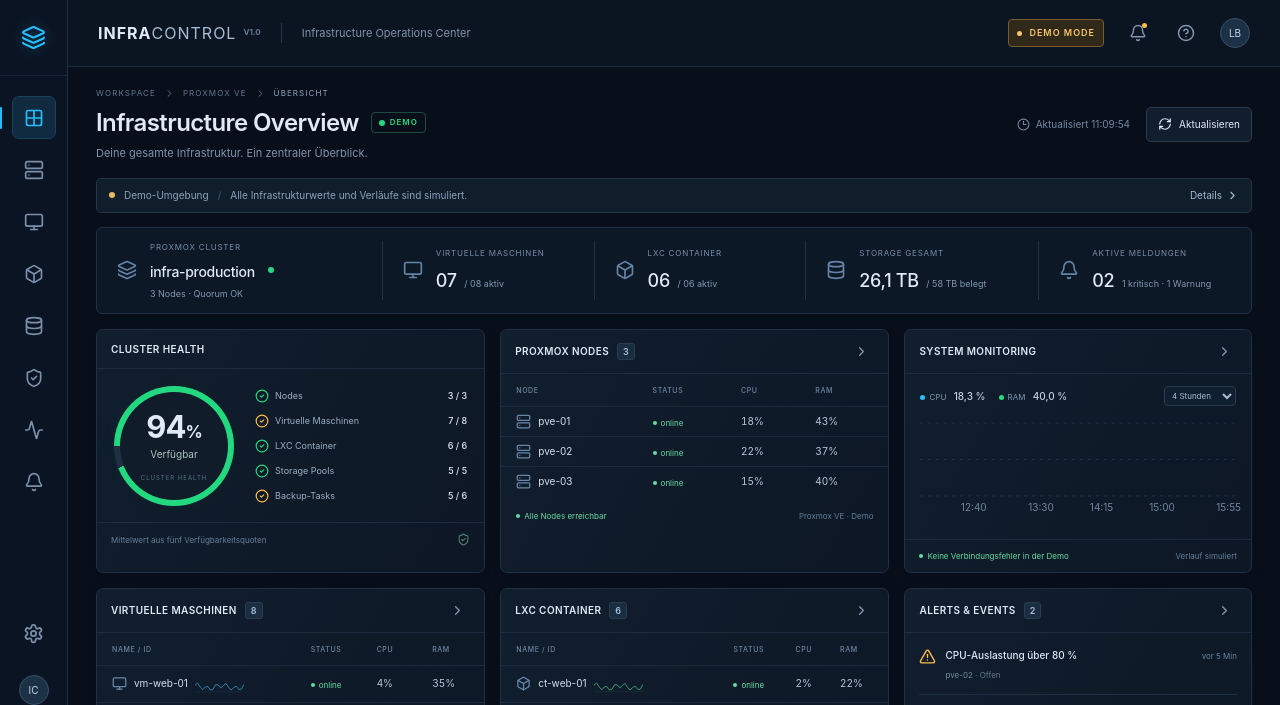
it: InfraControl demo › navigates to inventory and filters and sorts rows
Click the button named "Virtuelle Maschinen" at (34, 222), box [12,200,56,243]
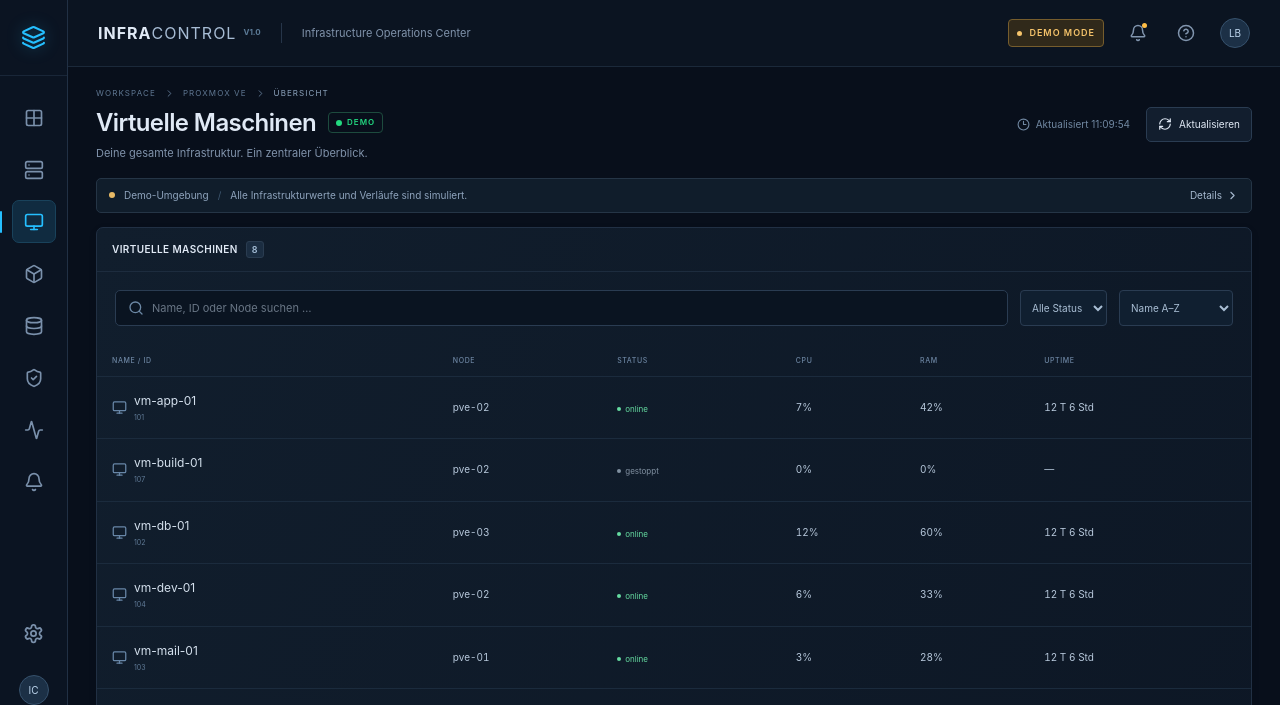
Result: the field named "Ressourcen suchen" is shown
Type "db" into the field named "Ressourcen suchen" at (574, 308), box [152,300,995,316]
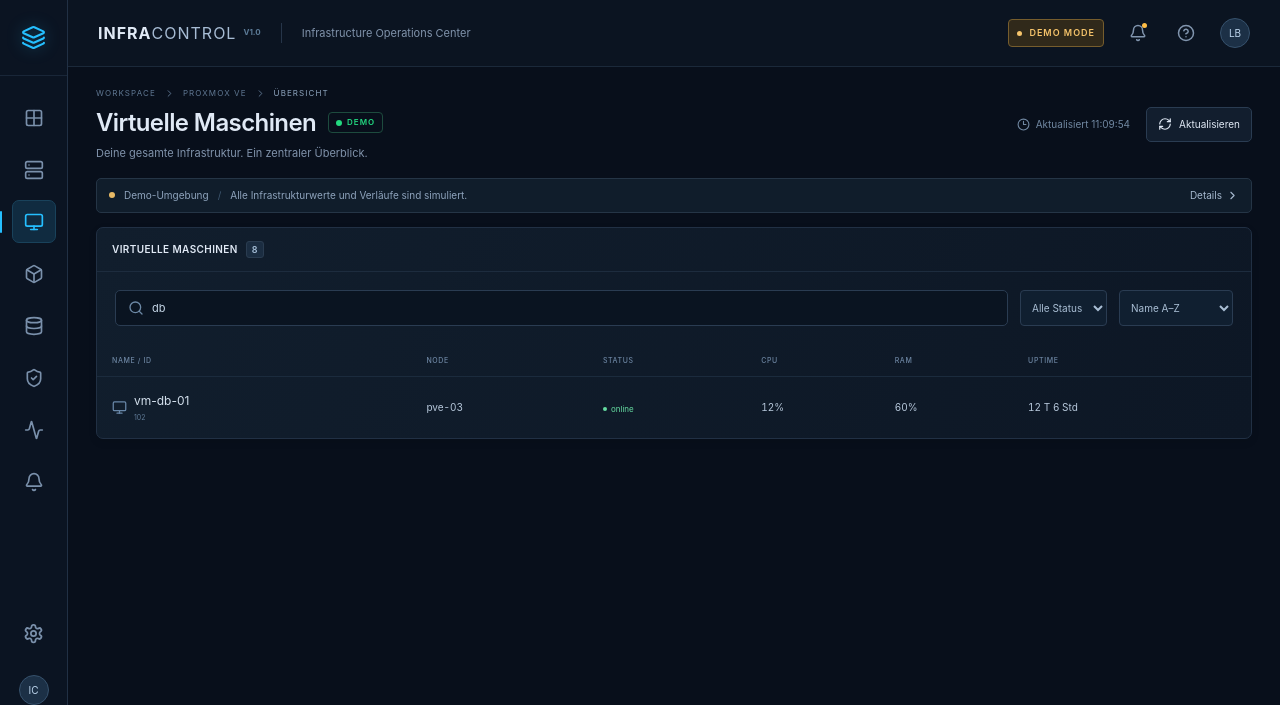
Result: the text "vm-db-01" is shown at [134,393,190,408]
Clear the field named "Ressourcen suchen" at (574, 308), box [152,300,995,316]
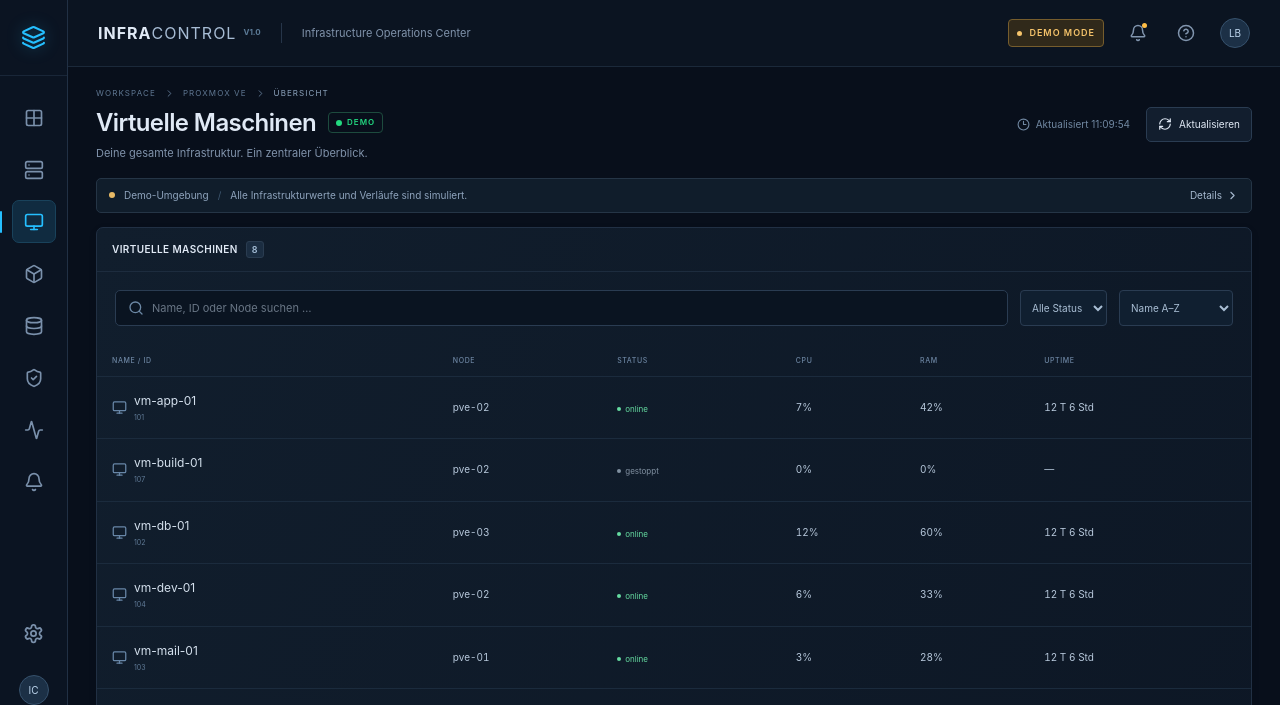
Select "Gestoppt" in the dropdown named "Status filtern" at (1064, 308), box [1020,290,1107,326]
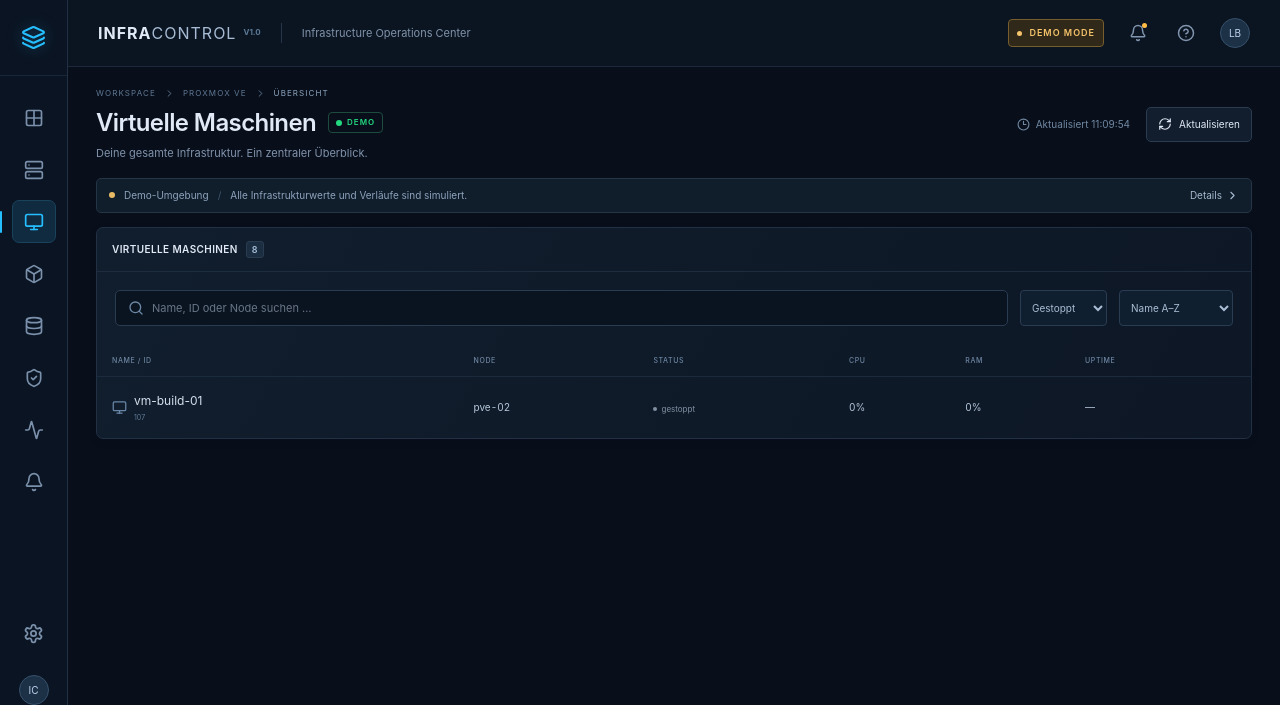
Result: the text "vm-build-01" is shown at [134,393,202,408]
Result: the button "vm-db-01" is gone
